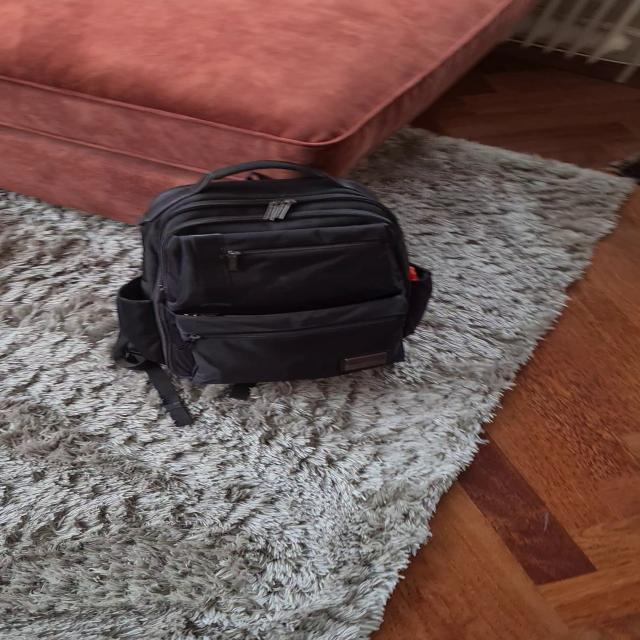backpack: (102, 156, 441, 404)
